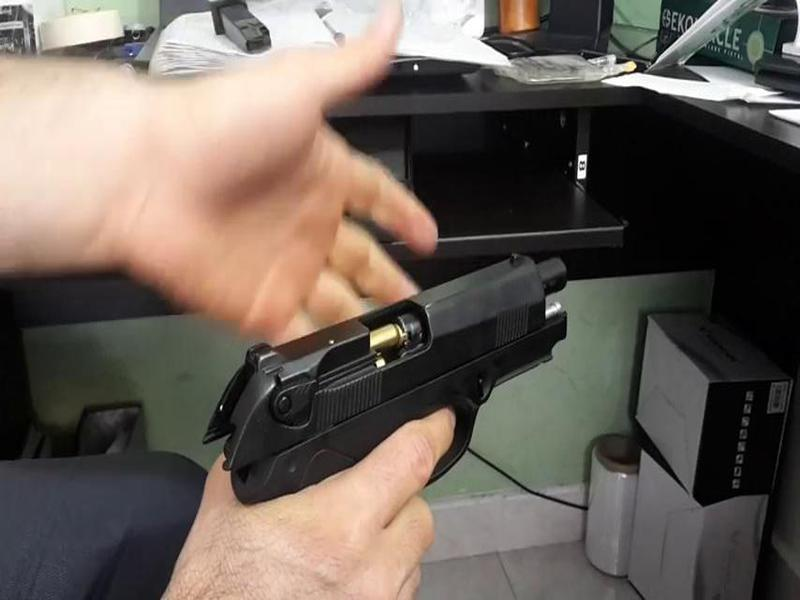Pistola: (182, 221, 573, 504)
